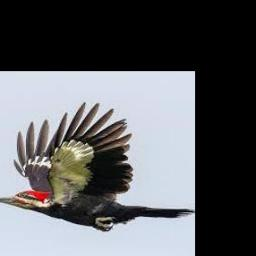Woodpecker: (0, 102, 194, 232)
